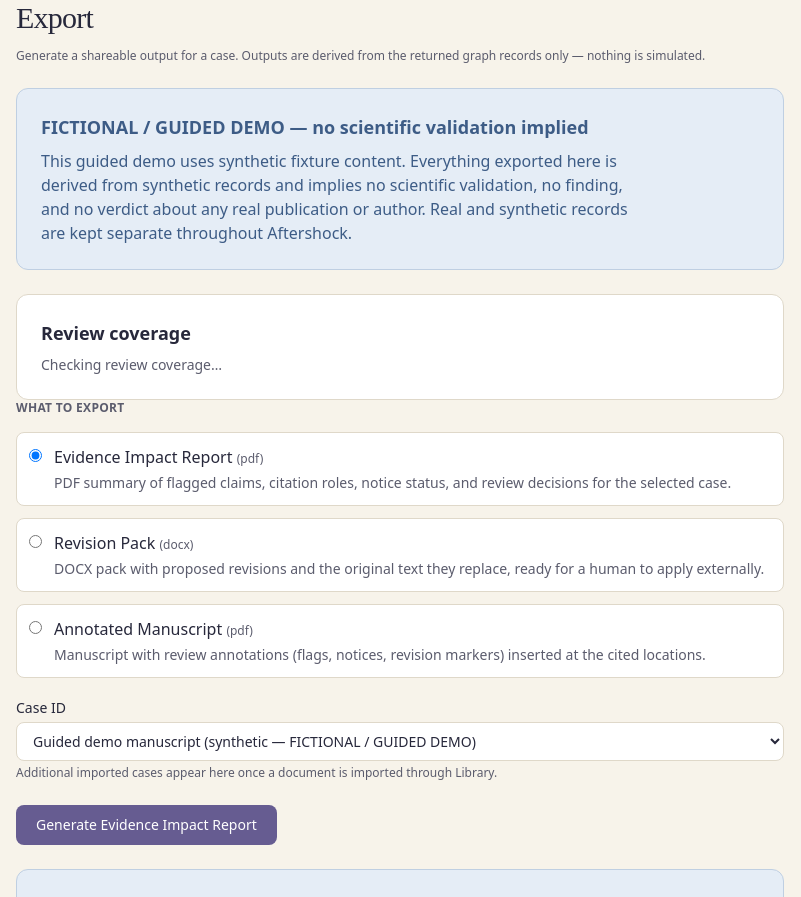
ExportPage › generates a DOCX Revision Pack through POST /export-revision-pack
What coordinates should you click on to do the following:
click the radio button with test id "export-type-revision-pack"
I would click on:
 (36, 542)
Its box is [29,535,42,548].
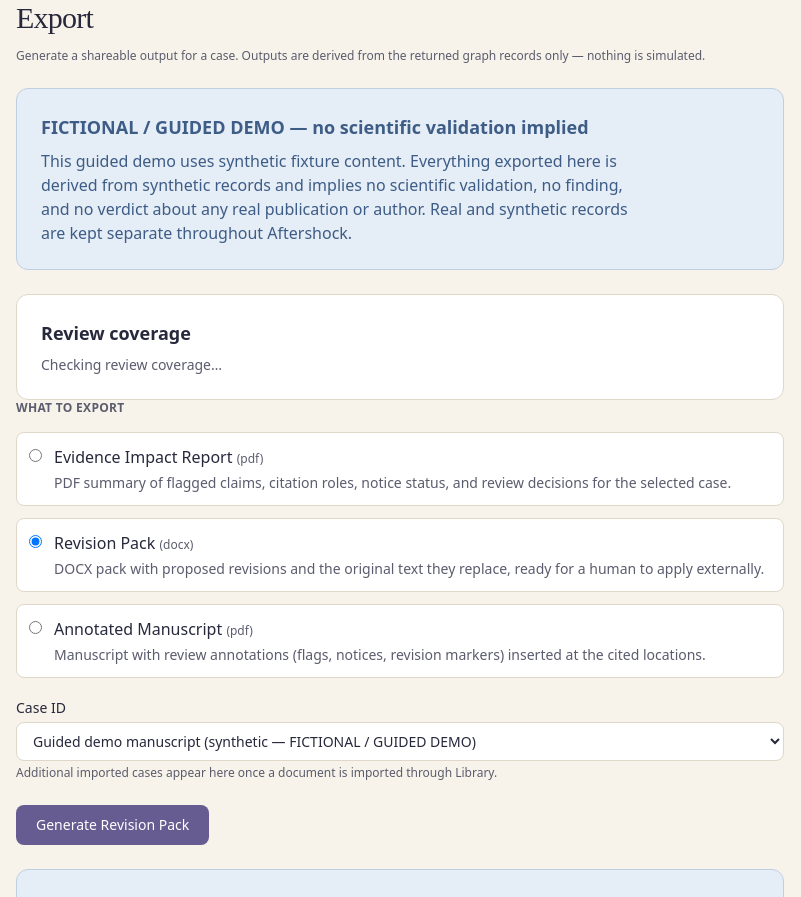
Expected: the button with test id "export-generate" reads "Generate Revision Pack"
What coordinates should you click on to do the following:
click the button with test id "export-generate"
I would click on:
 (113, 825)
Its box is [16,805,209,845].
(page scrolled)
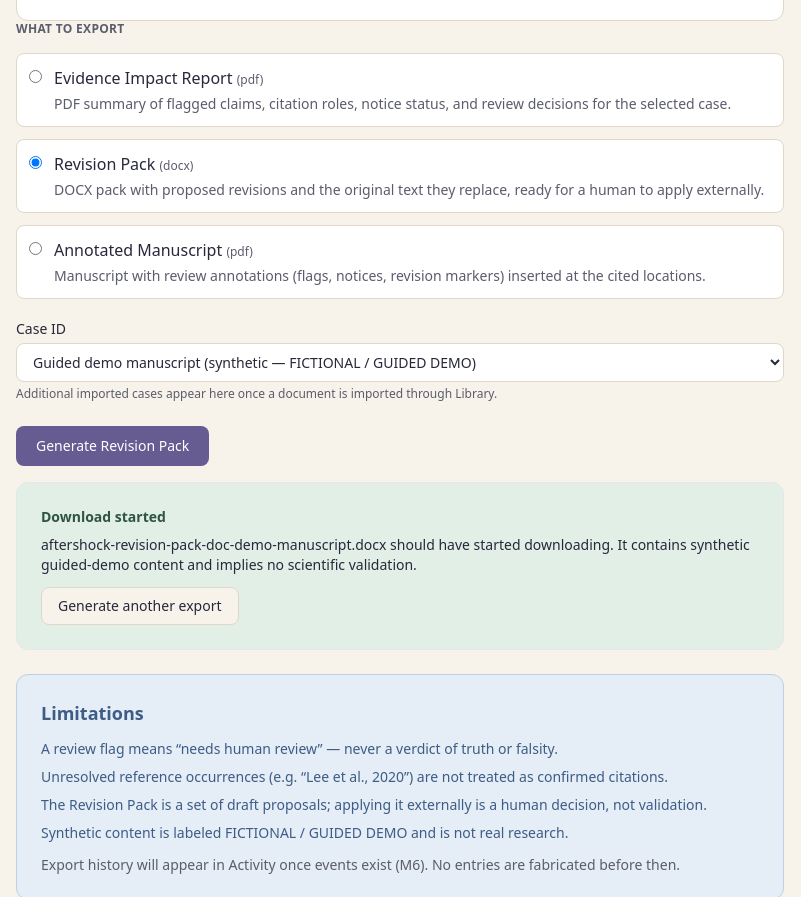
Expected: the element with test id "export-done" is shown, [16,482,784,650]
